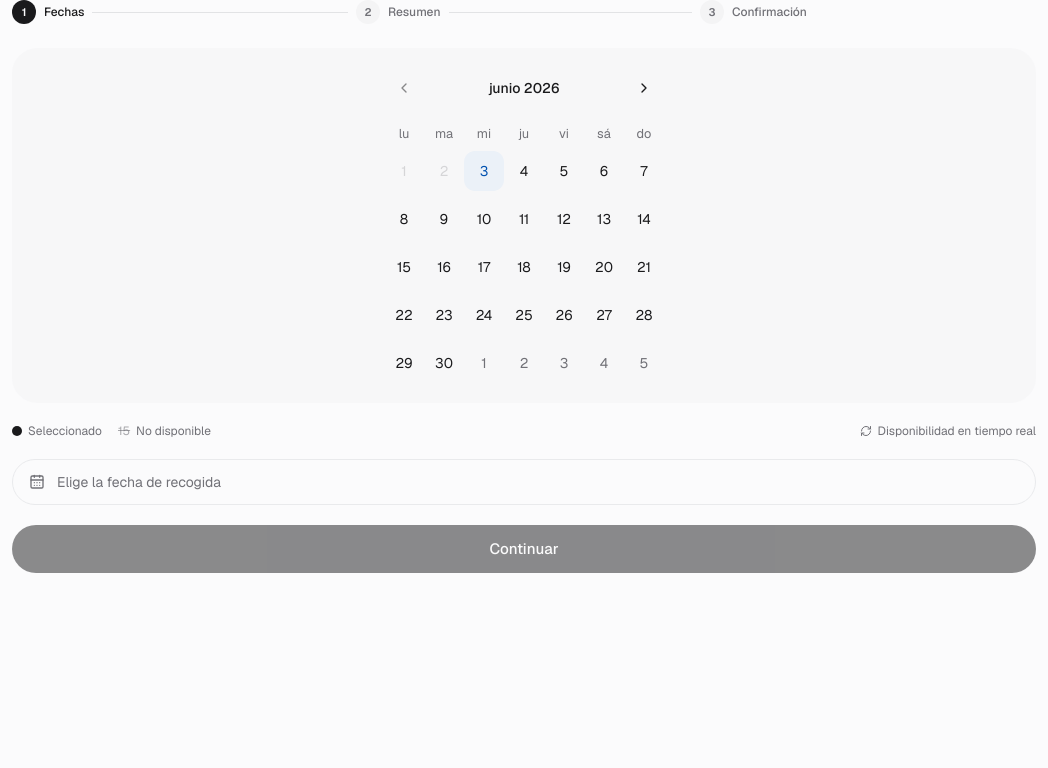
Test: rental flow › does not let the calendar build a range longer than 30 days
This screenshot has width=1048, height=768.
Click the 1st button "4".
click(524, 171)  # box [504,151,544,191]
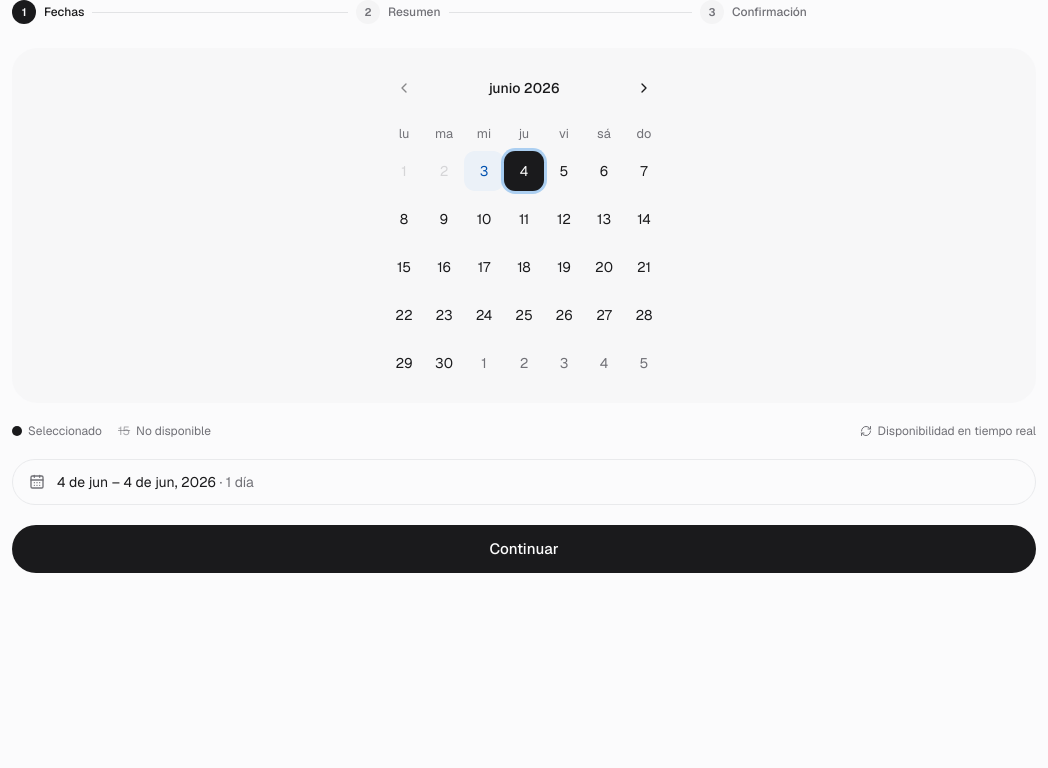
Click the button named "Ir al mes siguiente".
click(644, 88)  # box [624,68,664,108]
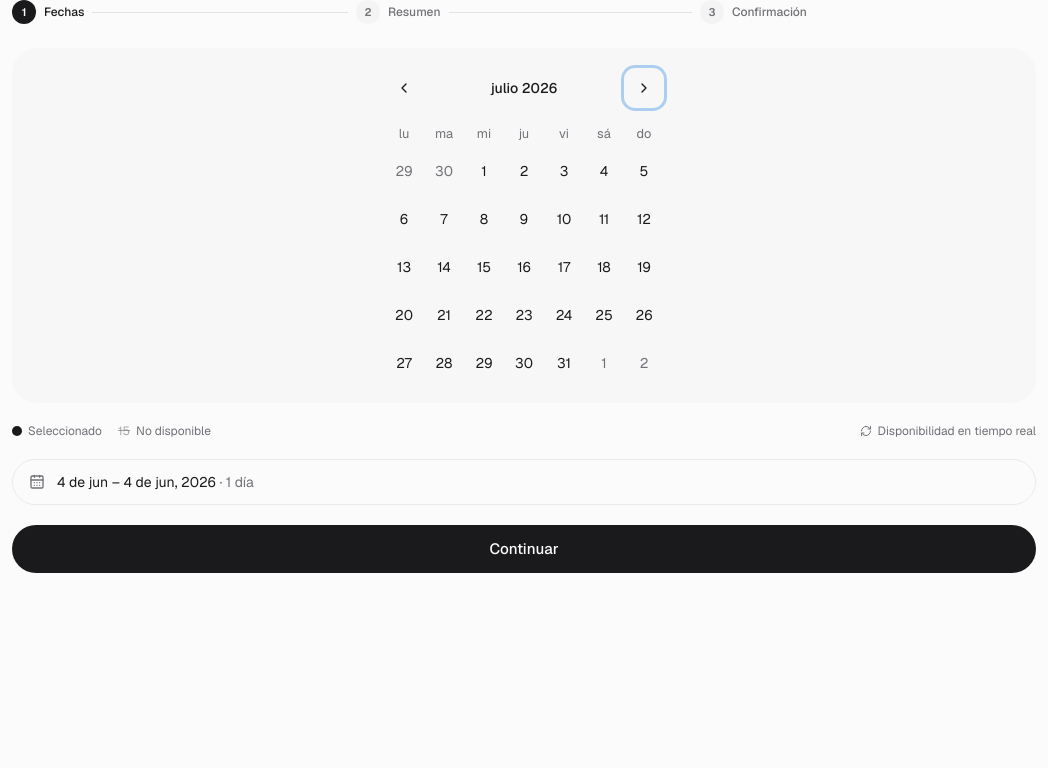
Click the button "5".
click(644, 171)  # box [624,151,664,191]
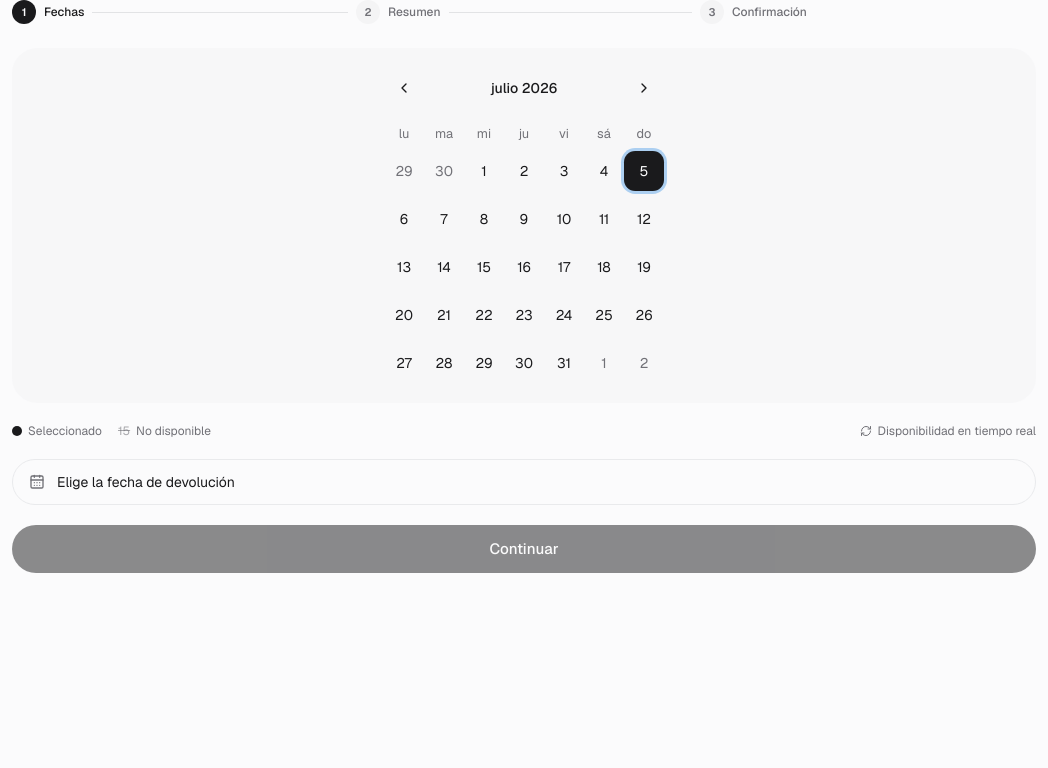
Expected: the text "Elige la fecha de devolución" is shown, [57,472,235,492]
Expected: the button "Continuar" is disabled, [12,525,1036,573]
